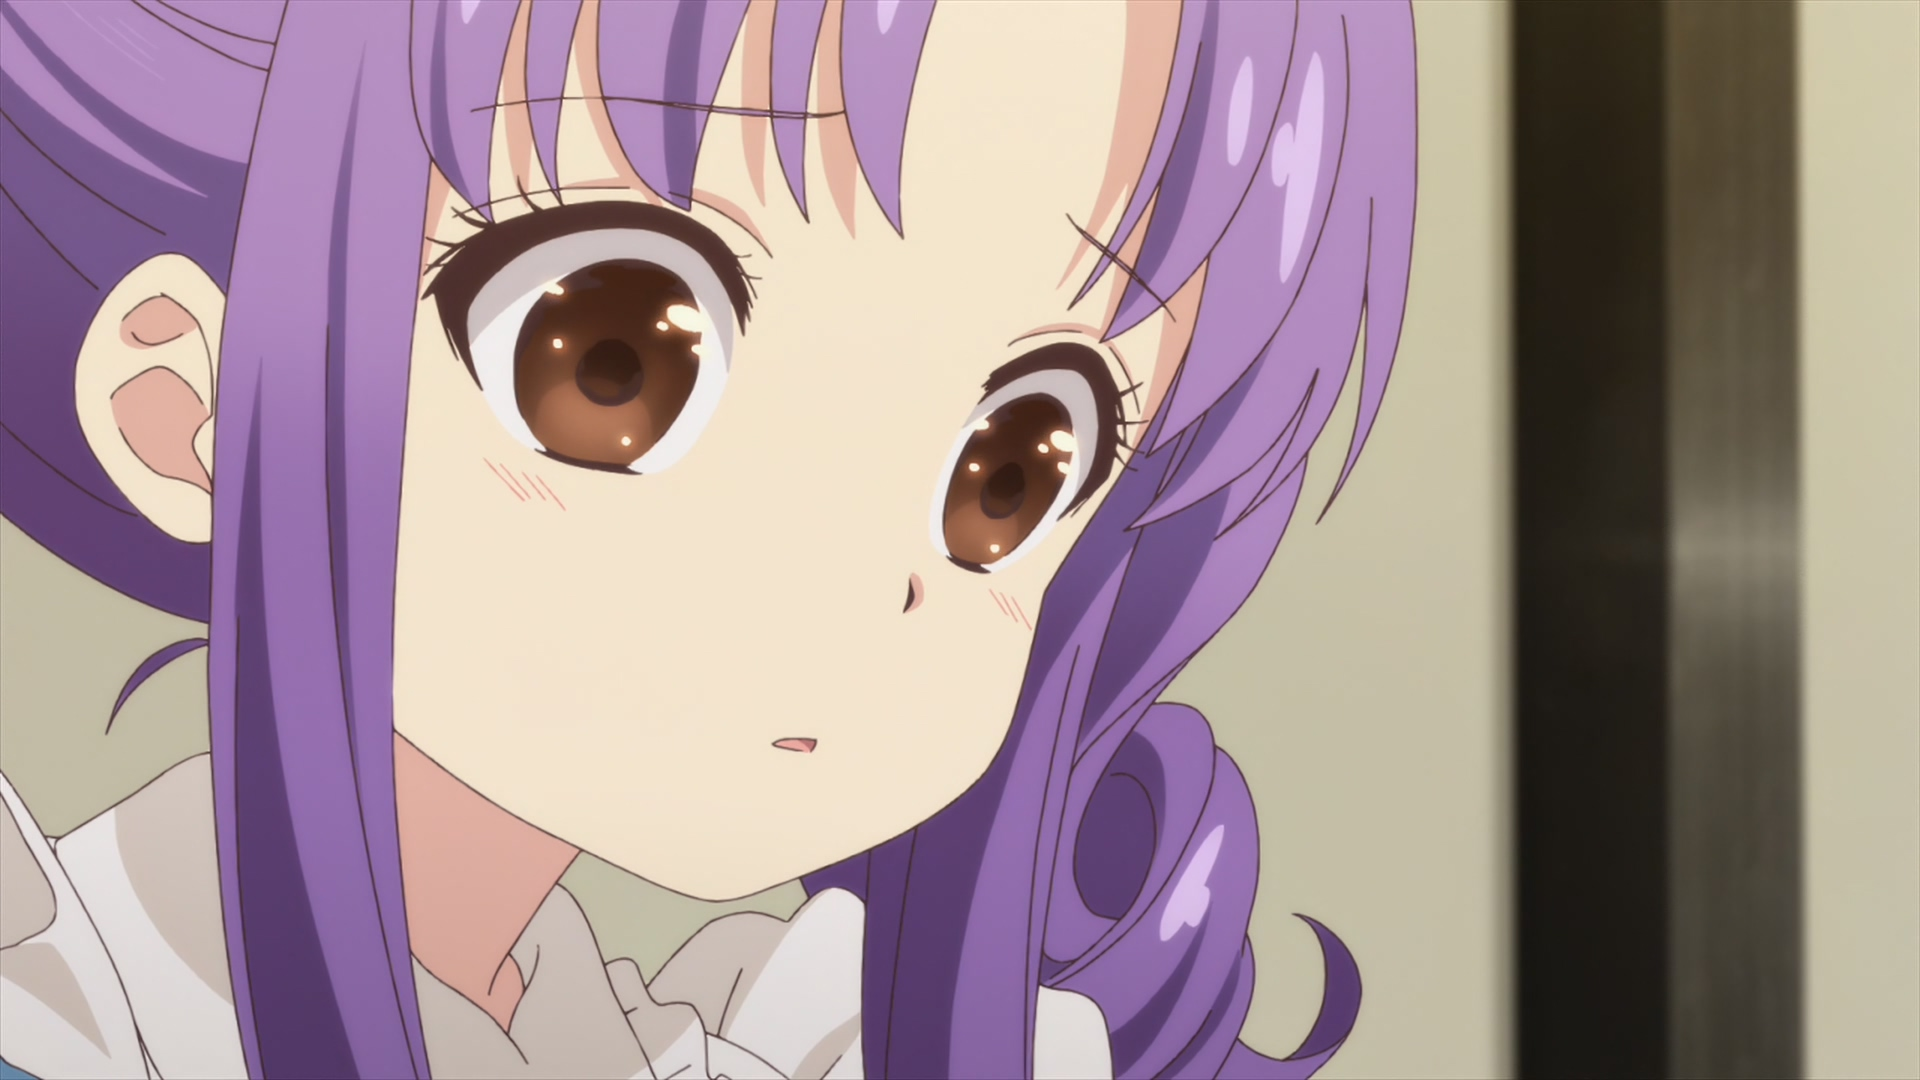阿菊: (1, 1, 1419, 1080)
